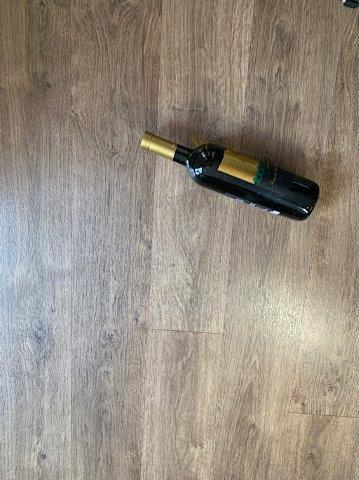botolkaca: (139, 133, 321, 222)
